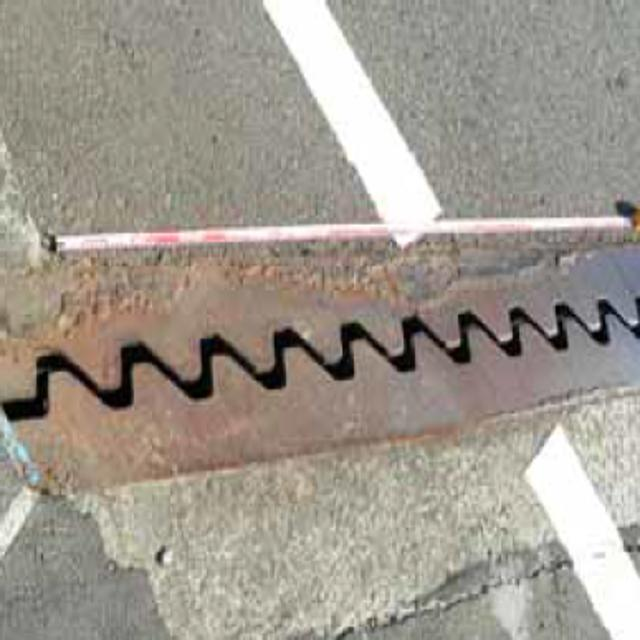corrosion: (4, 238, 640, 496)
